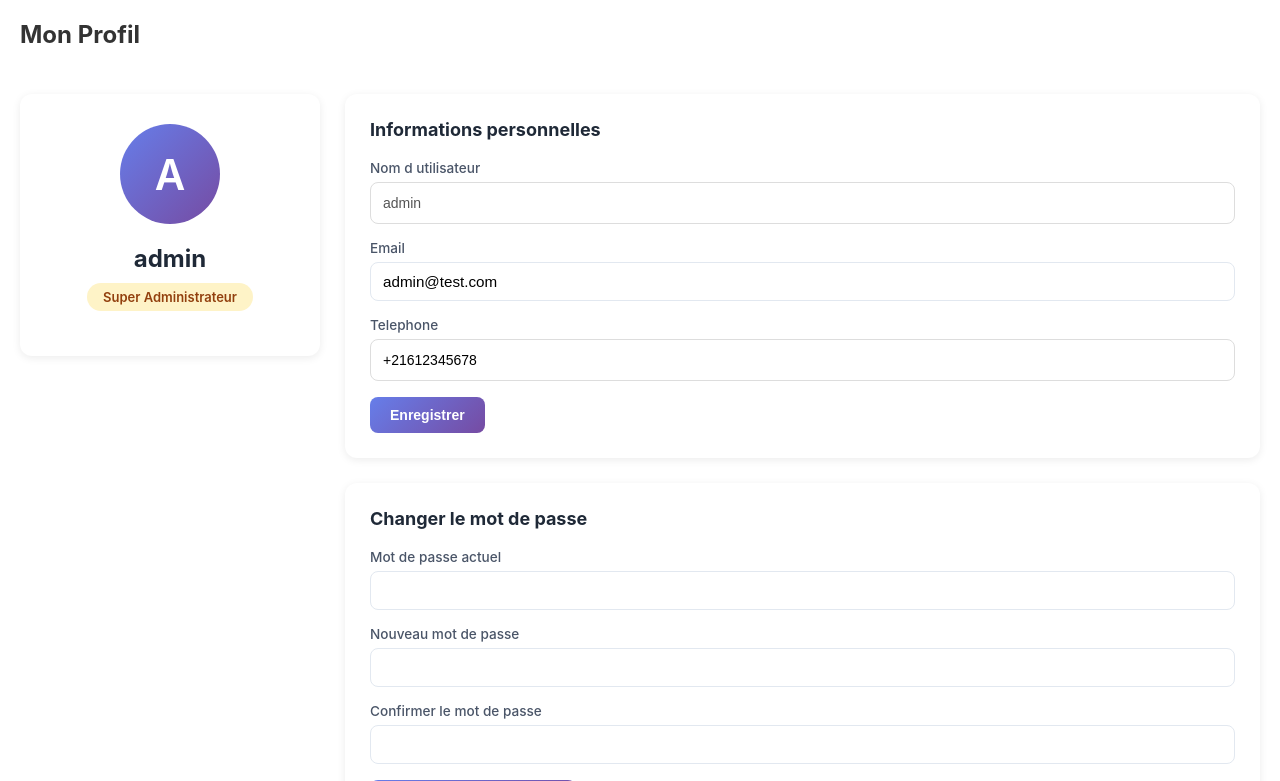
Scenario: Profile › submits change password successfully
Expected: the heading "Informations personnelles" is shown, [370, 119, 601, 140]
Step 1. Type "oldpass" into the password field below "Mot de passe actuel" → (802, 590), box [370, 571, 1235, 610]
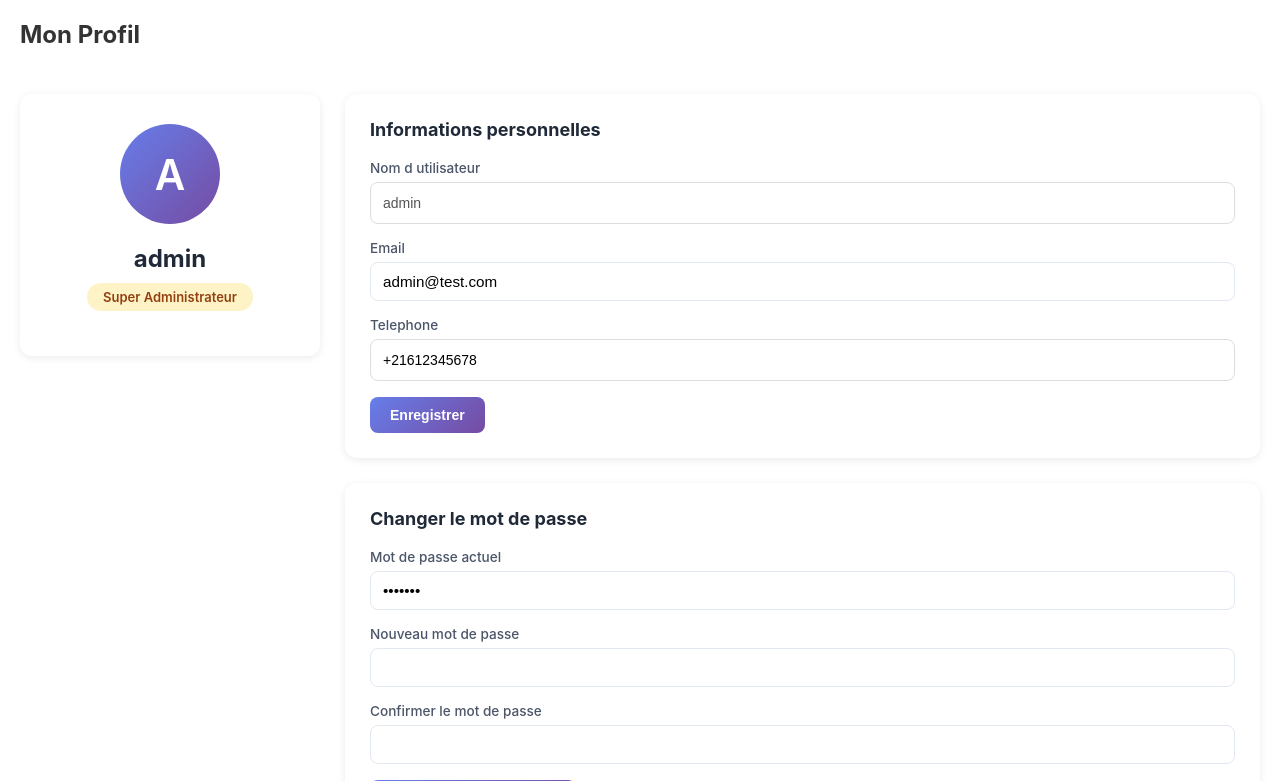
Step 2. Type "newpass123" into the password field below "Nouveau mot de passe" → (802, 668), box [370, 648, 1235, 687]
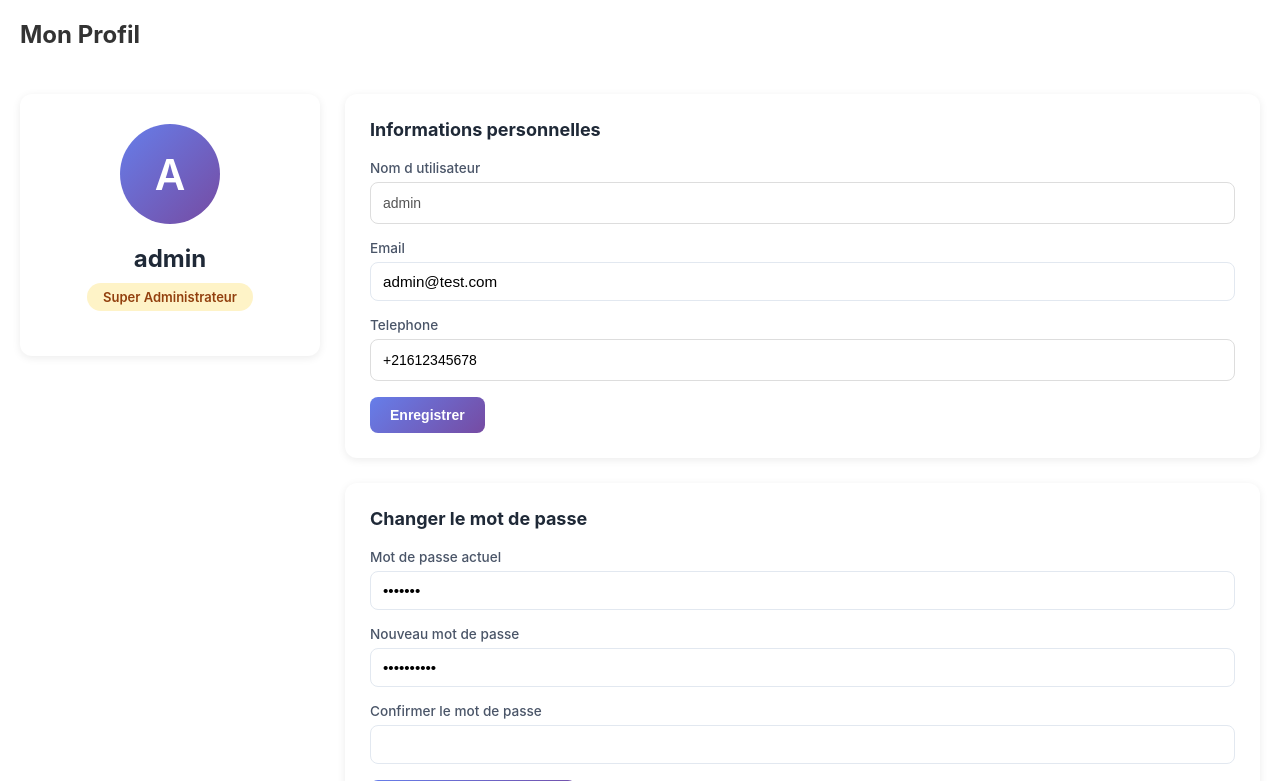
Step 3. Type "newpass123" into the password field below "Confirmer le mot de passe" → (802, 744), box [370, 725, 1235, 764]
(page scrolled)
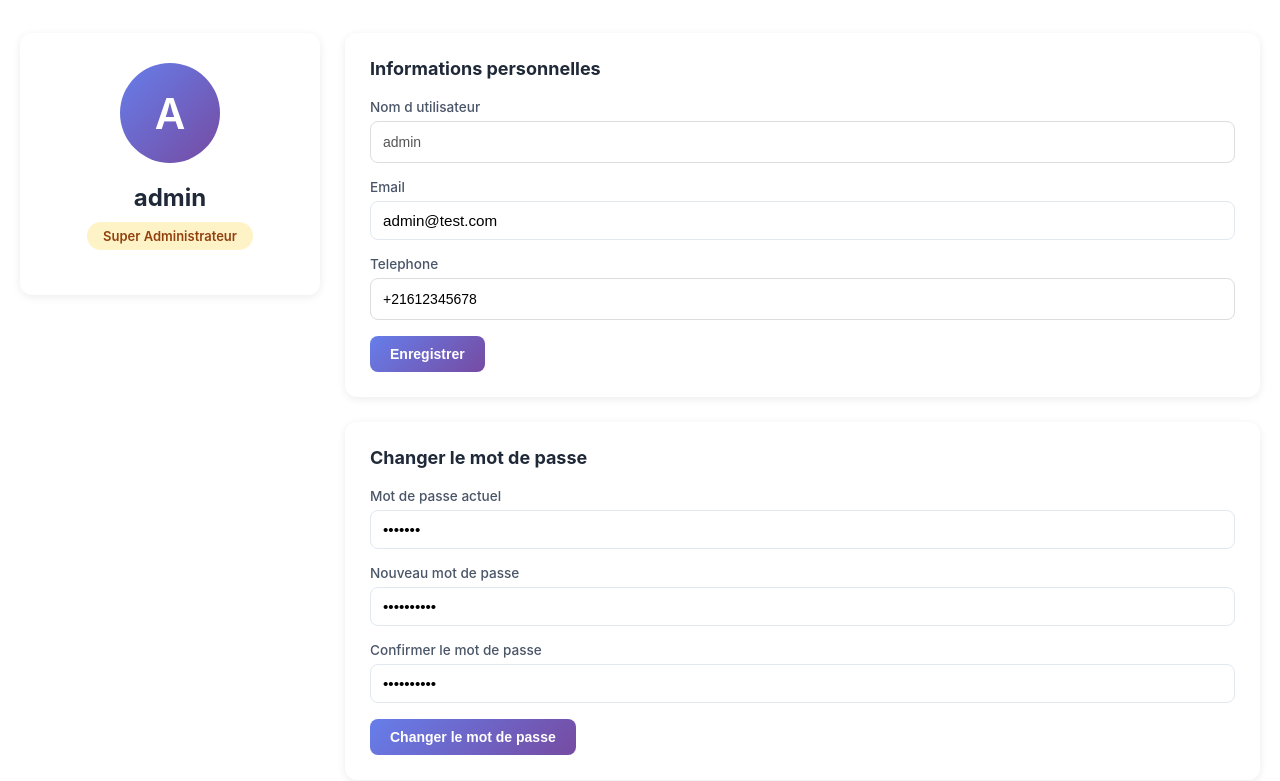
Step 4. Click the button "Changer le mot de passe" → (473, 737), box [370, 719, 576, 755]
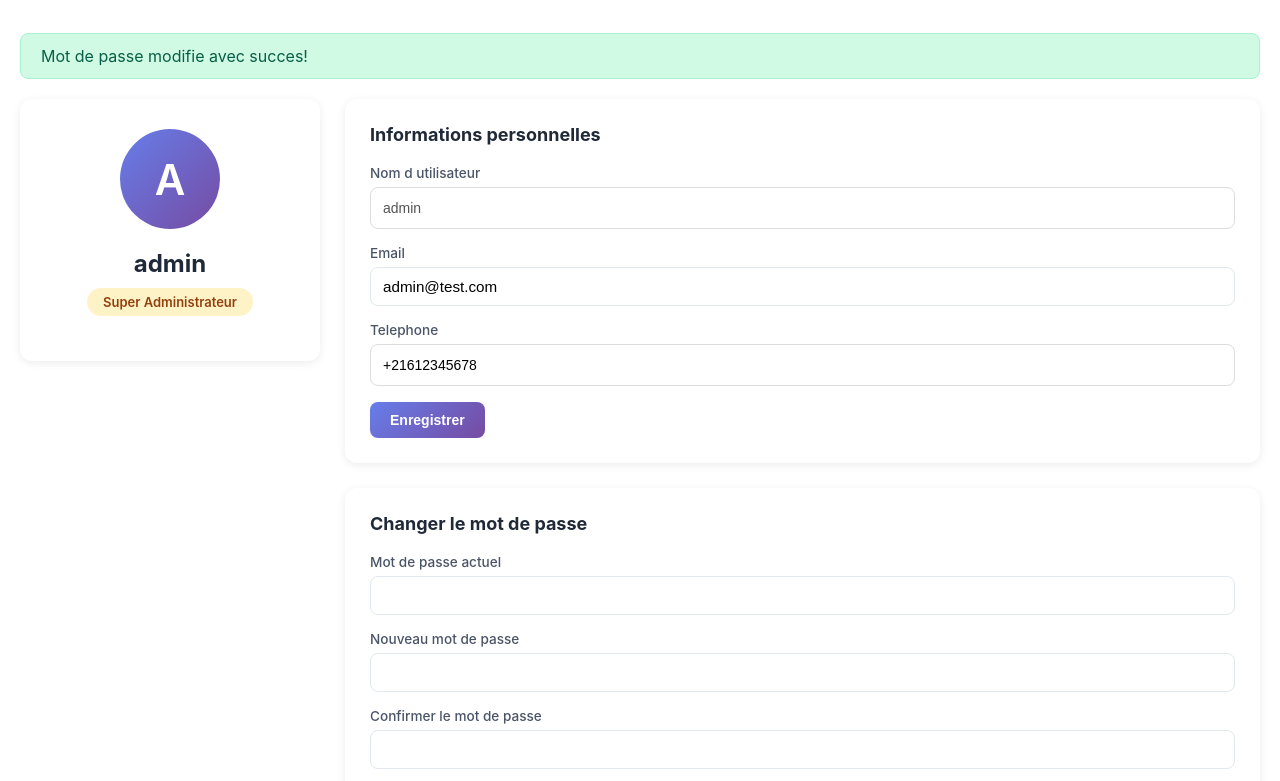
Expected: the text "Mot de passe modifie avec succes!" is shown, [20, 33, 1260, 79]
